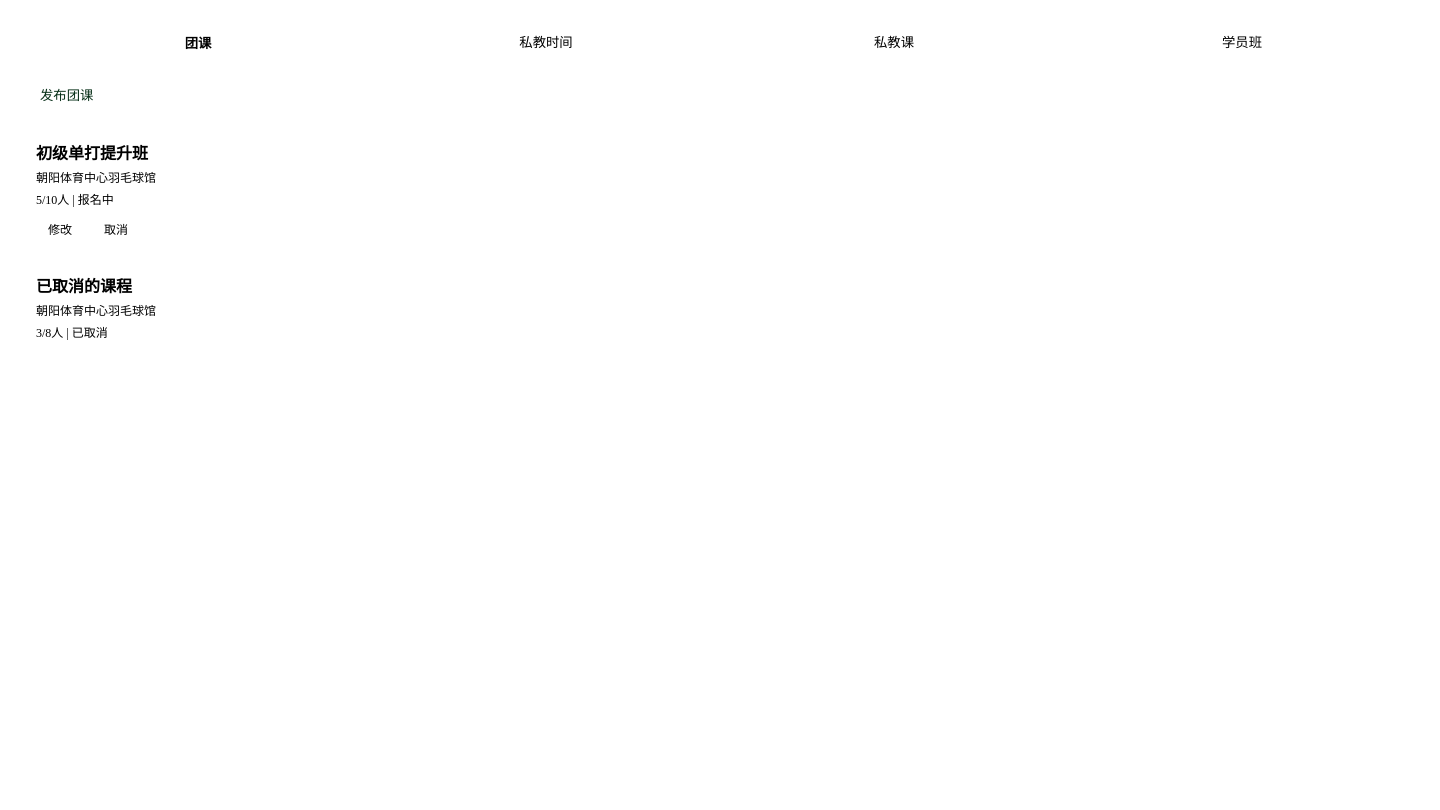
Test: MyCourseManagementPage › should show confirm dialog when cancel class button is clicked
Note: The first one should be the cancel button for the open class
Click the button "取消" at (116, 228), box x1=92 y1=216 x2=140 y2=241
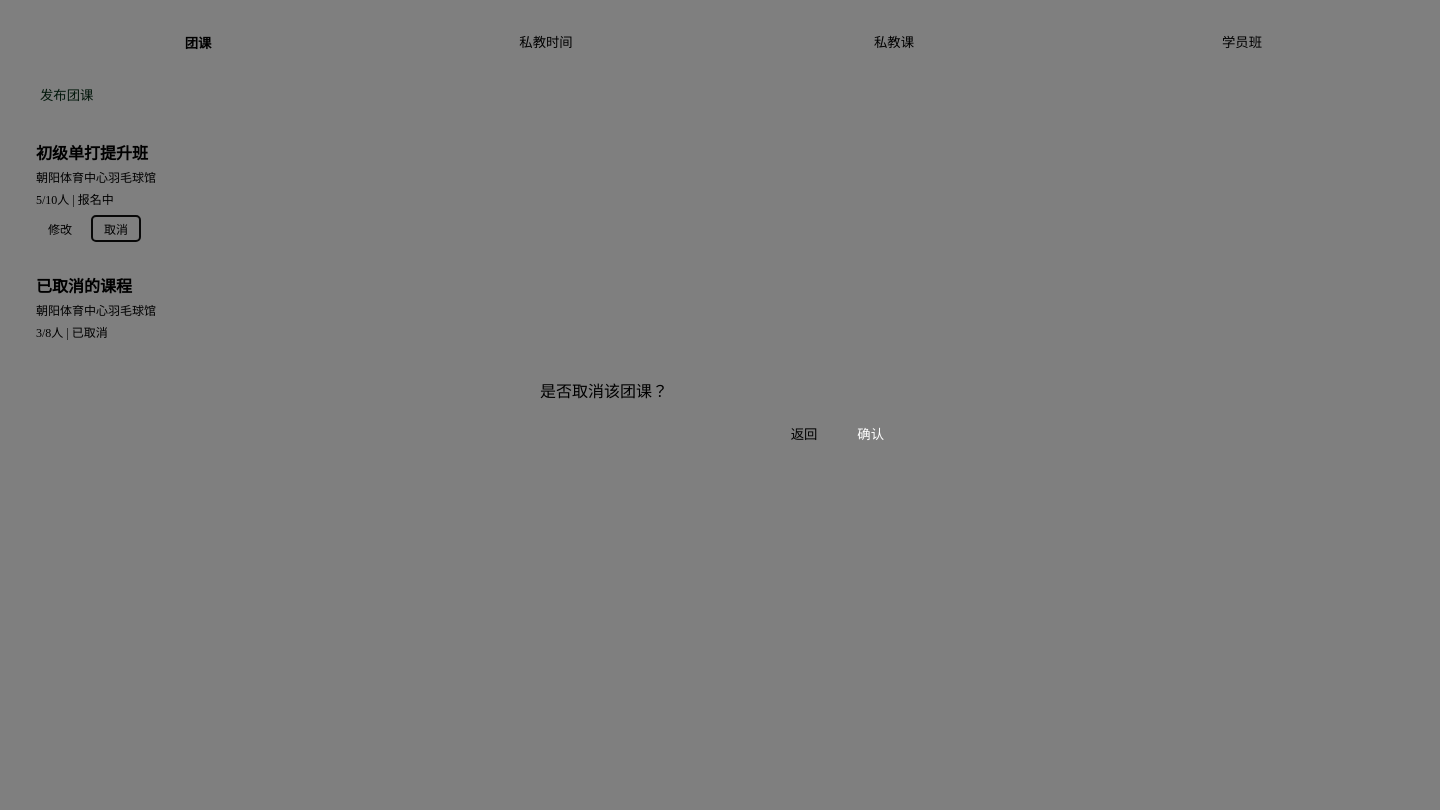
expect the button "确认" is shown: met, box x1=841 y1=418 x2=900 y2=448
